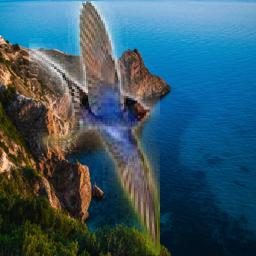Swallow: (30, 1, 161, 255)
